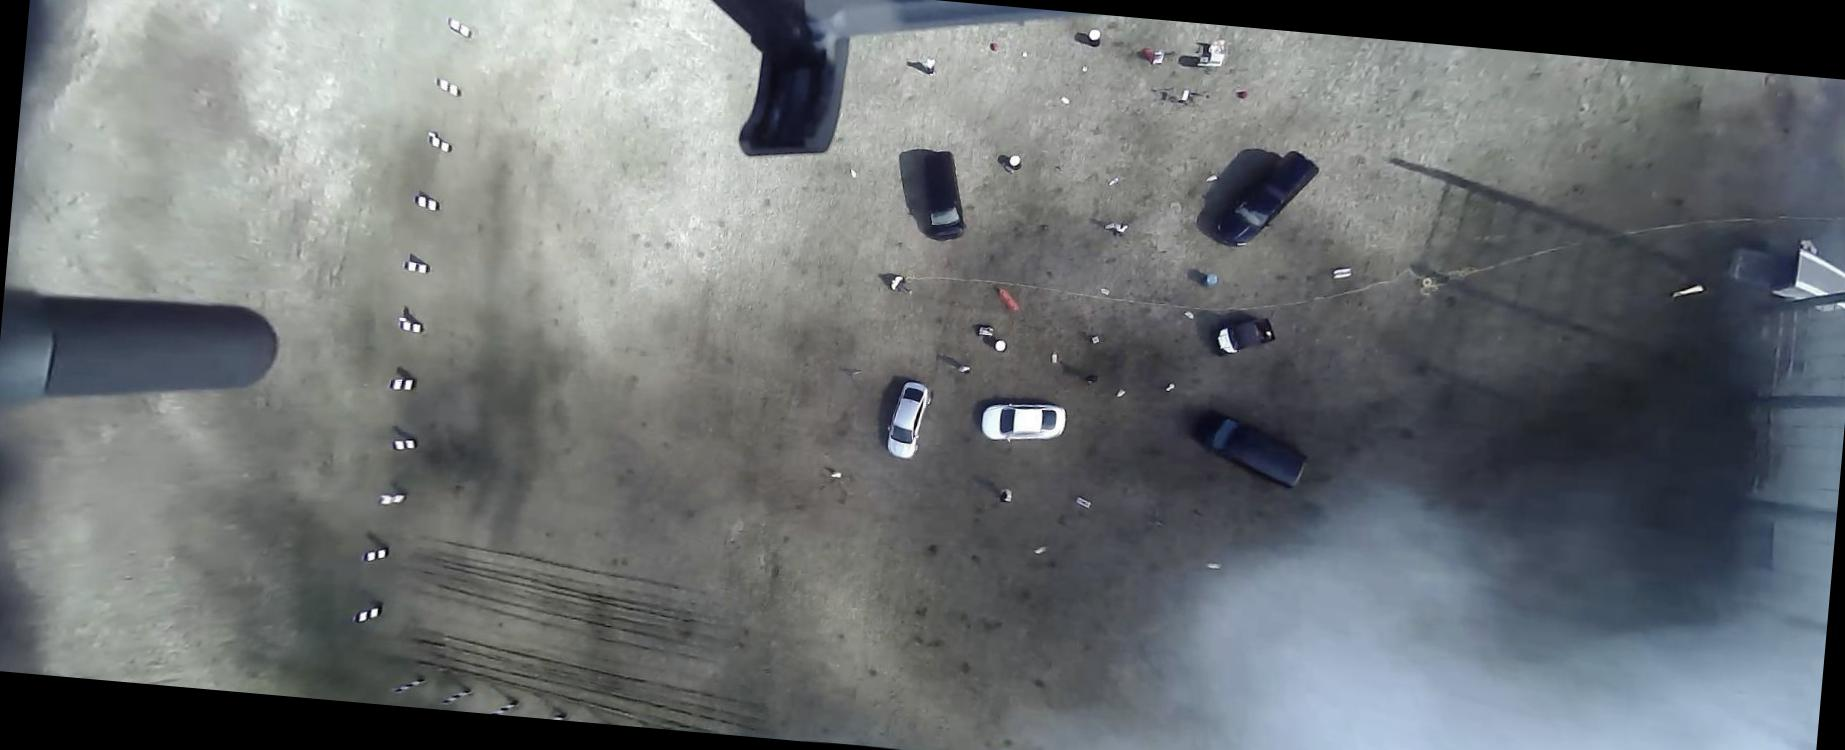vehicle: (1210, 142, 1321, 253), (1192, 409, 1311, 487), (915, 148, 972, 243), (978, 398, 1068, 449), (884, 378, 933, 460), (1211, 312, 1279, 360)
